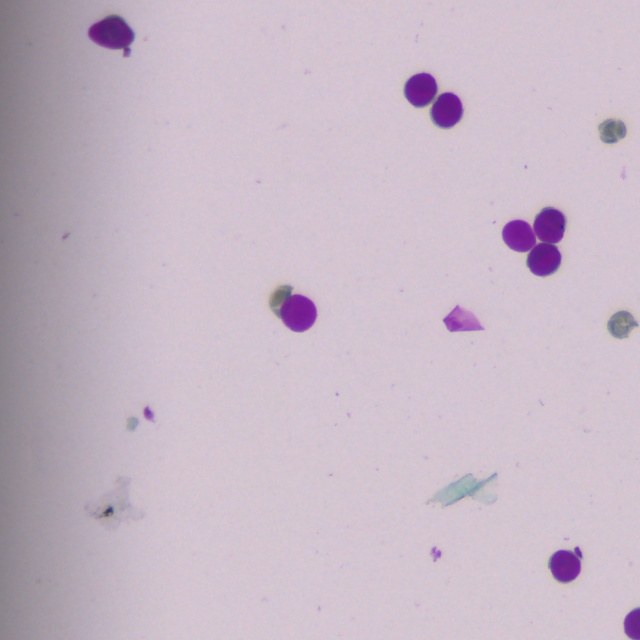non_viable: (607, 310, 637, 337), (599, 119, 626, 143)
viable: (88, 15, 133, 53), (276, 294, 316, 331), (532, 209, 564, 244), (549, 547, 581, 582), (406, 74, 436, 105), (528, 244, 559, 274), (432, 94, 461, 125), (504, 221, 534, 250), (624, 608, 639, 638)
